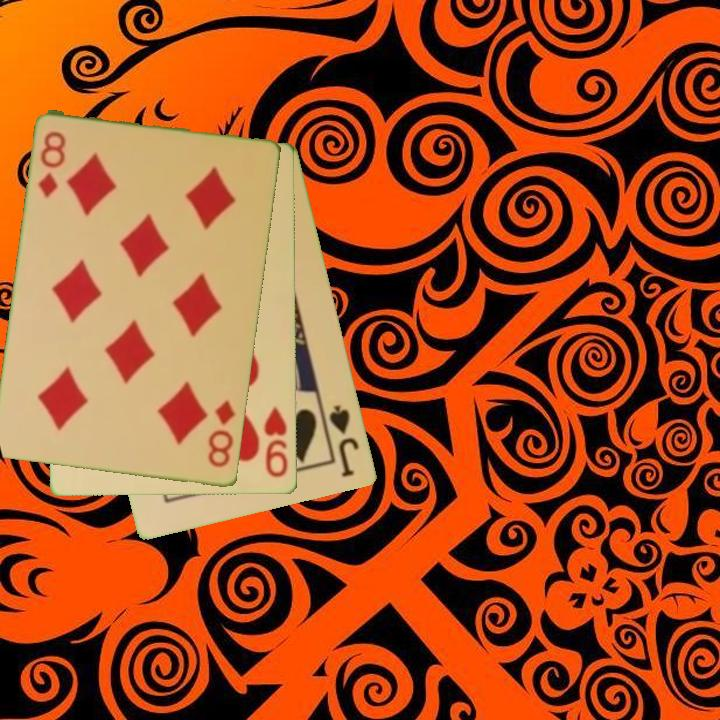8d: (35, 128, 69, 201), (205, 397, 238, 471)
9h: (261, 403, 291, 481)
Js: (326, 401, 362, 480)
